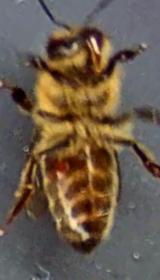varroa_mite: (41, 149, 76, 180)
